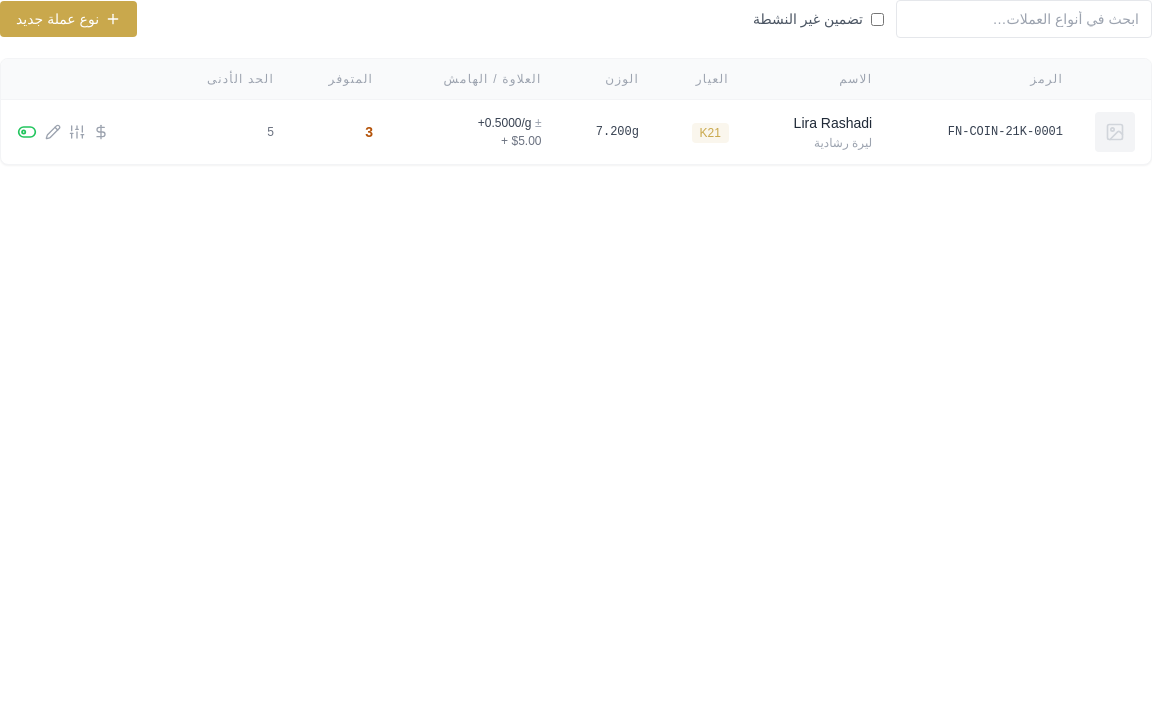
Scenario: UnitCatalog in Arabic (NEX-64) › leaves no English behind — live price dialog, rate source included
The image size is (1152, 720).
Click the button named "السعر المباشر: FN-COIN-21K-0001".
click(101, 132)  # box [93, 124, 109, 140]
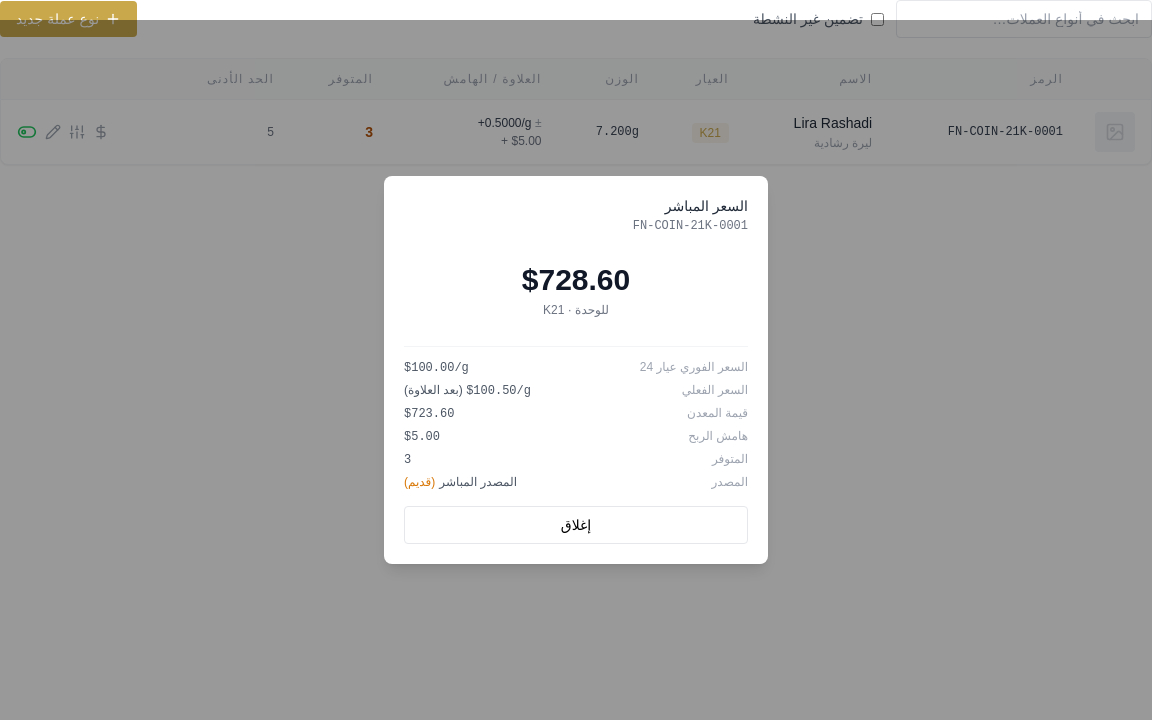
Expected: the text "$728.60" is shown, [522, 263, 630, 296]
Expected: the button "إغلاق" is shown, [404, 506, 748, 544]
